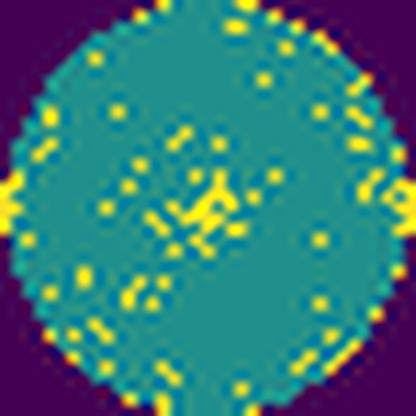Center: (166, 162, 241, 260)
